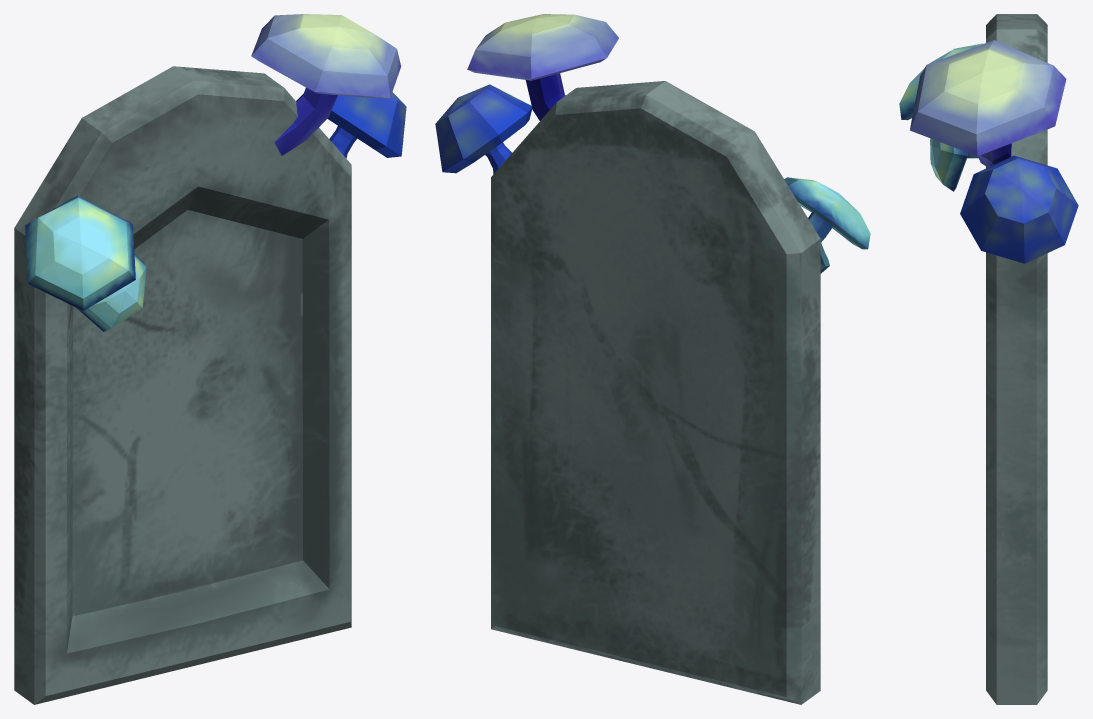
The model's file is mushroom_tombstone_02.fbx.
3 renders of one model, left to right at view 1: azimuth 30°, elevation 25°; view 2: azimuth 150°, elevation 25°; view 3: azimuth 270°, elevation 25°, orthographic. The views are drawn at different scales.
Parts seen in each view (by area): view 1: mushroom_tombstone_02; view 2: mushroom_tombstone_02; view 3: mushroom_tombstone_02.
Part boxes in pixels (x1,y1,x2,y2): mushroom_tombstone_02: (14,14,406,704); mushroom_tombstone_02: (435,14,870,704); mushroom_tombstone_02: (899,14,1078,704).
Bounding box in the file's own units: 3.65 × 5.3 × 1.37.
Materials: 2 (2 with a texture image).
